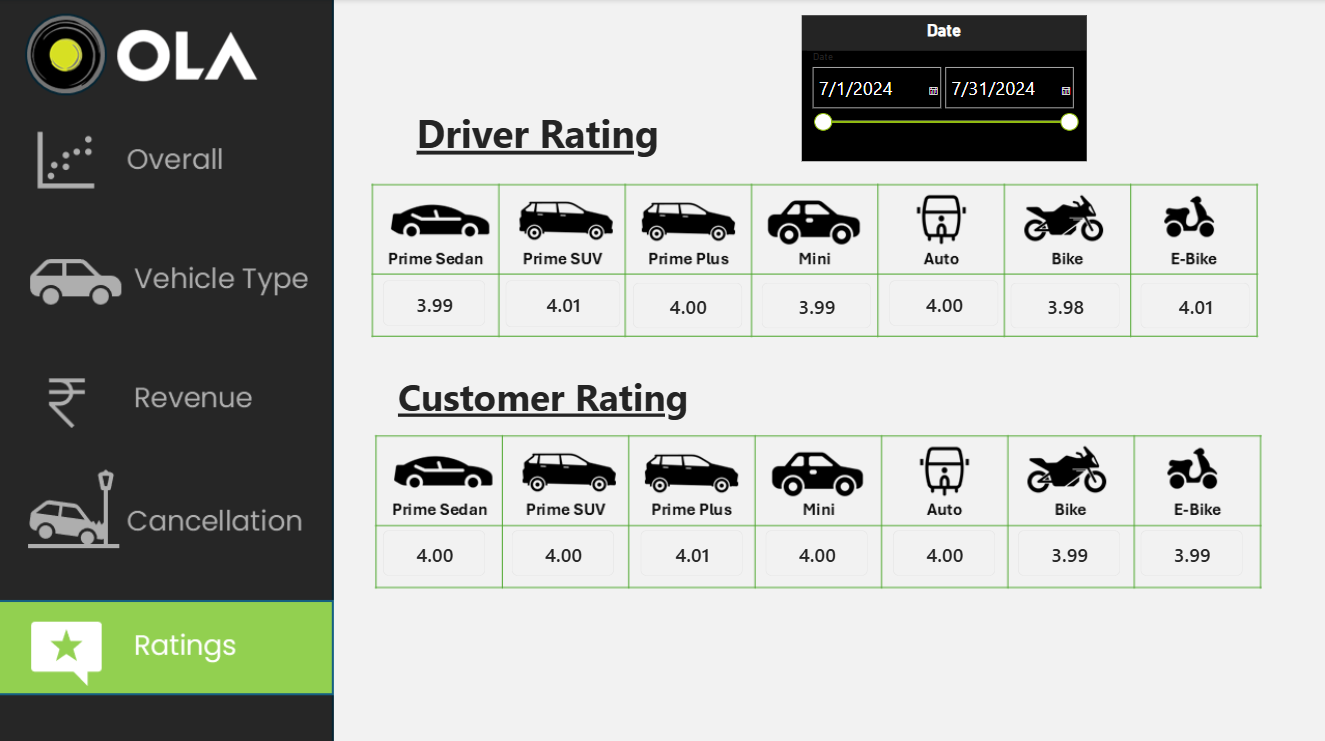

The dashboard page shown, as its layout file describes it:
{"tool":"powerbi","page":{"name":"Rating","canvas":[1920,1080],"ordinal":4},"visuals":[{"type":"actionButton","box":[322.1,394.5,320.3,110.4],"z":0},{"type":"actionButton","box":[2,510,480,144],"z":1000},{"type":"actionButton","box":[0,654,482,182],"z":2000},{"type":"actionButton","box":[0,870,482,144],"z":3000},{"type":"actionButton","box":[2,342,480,132],"z":4000},{"type":"actionButton","box":[0,156,482,156],"z":5000},{"type":"cardVisual","fields":{"Data":["Avg(July.Driver_Ratings)"]},"box":[558,408,148,66],"z":6000},{"type":"cardVisual","fields":{"Data":["Avg(July.Driver_Ratings)"]},"box":[734,408,166,68],"z":7000},{"type":"cardVisual","fields":{"Data":["Avg(July.Driver_Ratings)"]},"box":[920,410,158,66],"z":8000},{"type":"cardVisual","fields":{"Data":["Avg(July.Driver_Ratings)"]},"box":[1106,410,158,66],"z":9000},{"type":"cardVisual","fields":{"Data":["Avg(July.Driver_Ratings)"]},"box":[1290,408,158,66],"z":10000},{"type":"cardVisual","fields":{"Data":["Avg(July.Driver_Ratings)"]},"box":[1654,410,158,66],"z":11000},{"type":"cardVisual","fields":{"Data":["Avg(July.Driver_Ratings)"]},"box":[1466,410,158,66],"z":12000},{"type":"textbox","box":[540,156,484,78],"z":13000},{"type":"textbox","box":[540,540,500,90],"z":14000},{"type":"cardVisual","fields":{"Data":["Avg(July.Customer_Rating)"]},"box":[558,770,148,66],"z":15000},{"type":"cardVisual","fields":{"Data":["Avg(July.Customer_Rating)"]},"box":[744,770,148,66],"z":16000},{"type":"cardVisual","fields":{"Data":["Avg(July.Customer_Rating)"]},"box":[930,770,148,66],"z":17000},{"type":"cardVisual","fields":{"Data":["Avg(July.Customer_Rating)"]},"box":[1112,770,148,66],"z":18000},{"type":"cardVisual","fields":{"Data":["Avg(July.Customer_Rating)"]},"box":[1296,770,148,66],"z":19000},{"type":"cardVisual","fields":{"Data":["Avg(July.Customer_Rating)"]},"box":[1476,770,148,66],"z":20000},{"type":"cardVisual","fields":{"Data":["Avg(July.Customer_Rating)"]},"box":[1654,770,148,66],"z":21000},{"type":"slicer","title":"Date","fields":{"Values":["July.Date"]},"box":[1164,24,412,210],"z":21001}]}

Visuals, with their boxes on the page's 1920x1080 design canvas (x1, y1, x2, y2). These are canvas units, not pixel positions in the 1325x741 screenshot, which may show the page scaled, cropped or inside an application window:
actionButton: pyautogui.locateOnScreen(322, 394, 642, 505)
actionButton: pyautogui.locateOnScreen(2, 510, 482, 654)
actionButton: pyautogui.locateOnScreen(0, 654, 482, 836)
actionButton: pyautogui.locateOnScreen(0, 870, 482, 1014)
actionButton: pyautogui.locateOnScreen(2, 342, 482, 474)
actionButton: pyautogui.locateOnScreen(0, 156, 482, 312)
cardVisual - Avg(July.Driver_Ratings): pyautogui.locateOnScreen(558, 408, 706, 474)
cardVisual - Avg(July.Driver_Ratings): pyautogui.locateOnScreen(734, 408, 900, 476)
cardVisual - Avg(July.Driver_Ratings): pyautogui.locateOnScreen(920, 410, 1078, 476)
cardVisual - Avg(July.Driver_Ratings): pyautogui.locateOnScreen(1106, 410, 1264, 476)
cardVisual - Avg(July.Driver_Ratings): pyautogui.locateOnScreen(1290, 408, 1448, 474)
cardVisual - Avg(July.Driver_Ratings): pyautogui.locateOnScreen(1654, 410, 1812, 476)
cardVisual - Avg(July.Driver_Ratings): pyautogui.locateOnScreen(1466, 410, 1624, 476)
textbox: pyautogui.locateOnScreen(540, 156, 1024, 234)
textbox: pyautogui.locateOnScreen(540, 540, 1040, 630)
cardVisual - Avg(July.Customer_Rating): pyautogui.locateOnScreen(558, 770, 706, 836)
cardVisual - Avg(July.Customer_Rating): pyautogui.locateOnScreen(744, 770, 892, 836)
cardVisual - Avg(July.Customer_Rating): pyautogui.locateOnScreen(930, 770, 1078, 836)
cardVisual - Avg(July.Customer_Rating): pyautogui.locateOnScreen(1112, 770, 1260, 836)
cardVisual - Avg(July.Customer_Rating): pyautogui.locateOnScreen(1296, 770, 1444, 836)
cardVisual - Avg(July.Customer_Rating): pyautogui.locateOnScreen(1476, 770, 1624, 836)
cardVisual - Avg(July.Customer_Rating): pyautogui.locateOnScreen(1654, 770, 1802, 836)
"Date" slicer: pyautogui.locateOnScreen(1164, 24, 1576, 234)
